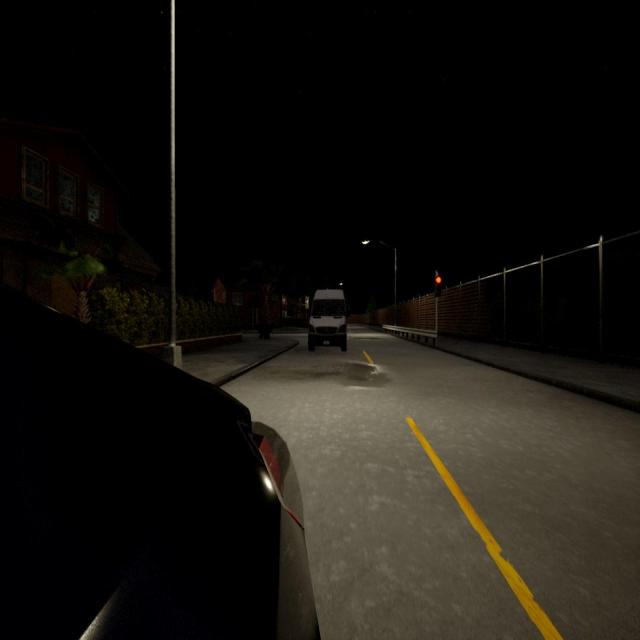Vehicle: (0, 284, 318, 638), (307, 290, 350, 352)
traffic_light: (435, 277, 443, 299)
